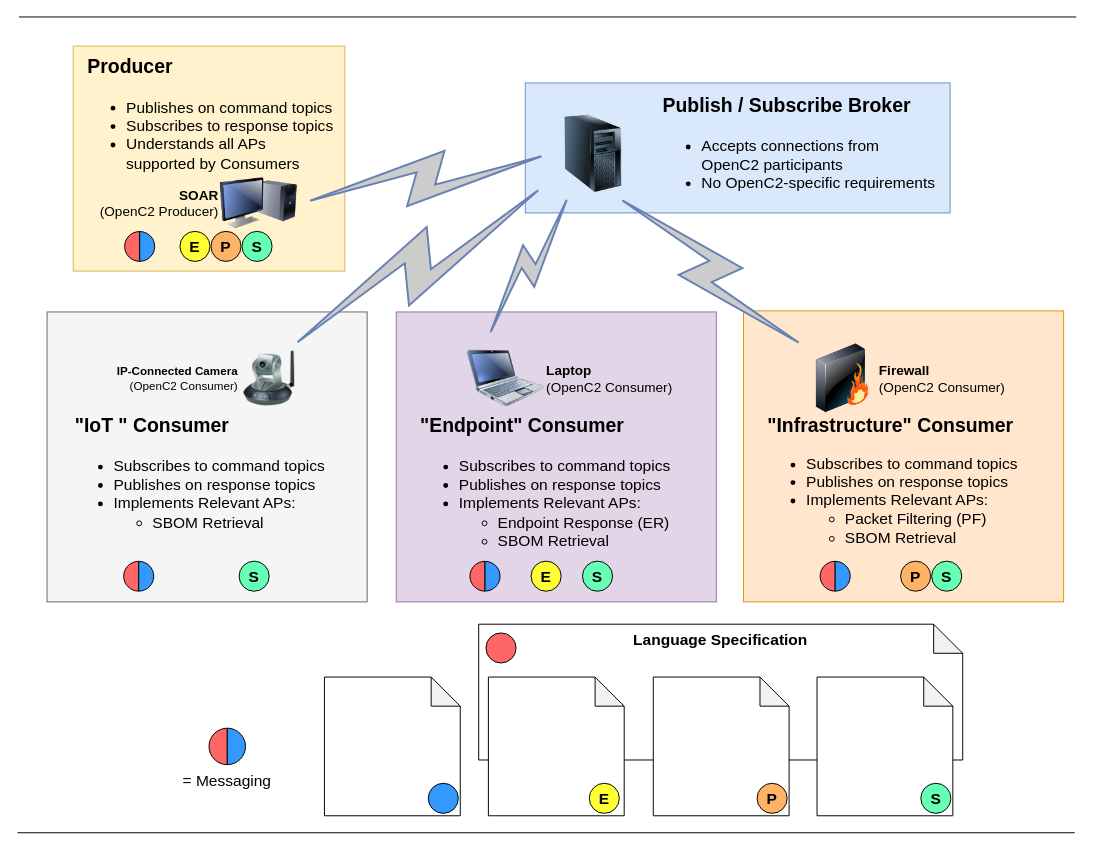
This 1094x851 diagram has some shape labels left out. The shapes that lost their labels are listed below. From the top down, each one's box as (x1, y1, x2, y2) in pixels, then its label:
(554, 114, 631, 192): Pub/Sub Broker
(323, 676, 460, 816): Publish / Subscribe Transfer Specification
(487, 676, 624, 816): Endpoint Response (ER) Actuator Profile
(652, 676, 789, 816): Packet Filtering (PF) Actuator Profile
(816, 676, 953, 816): SBOM Retrieval Actuator Profile
